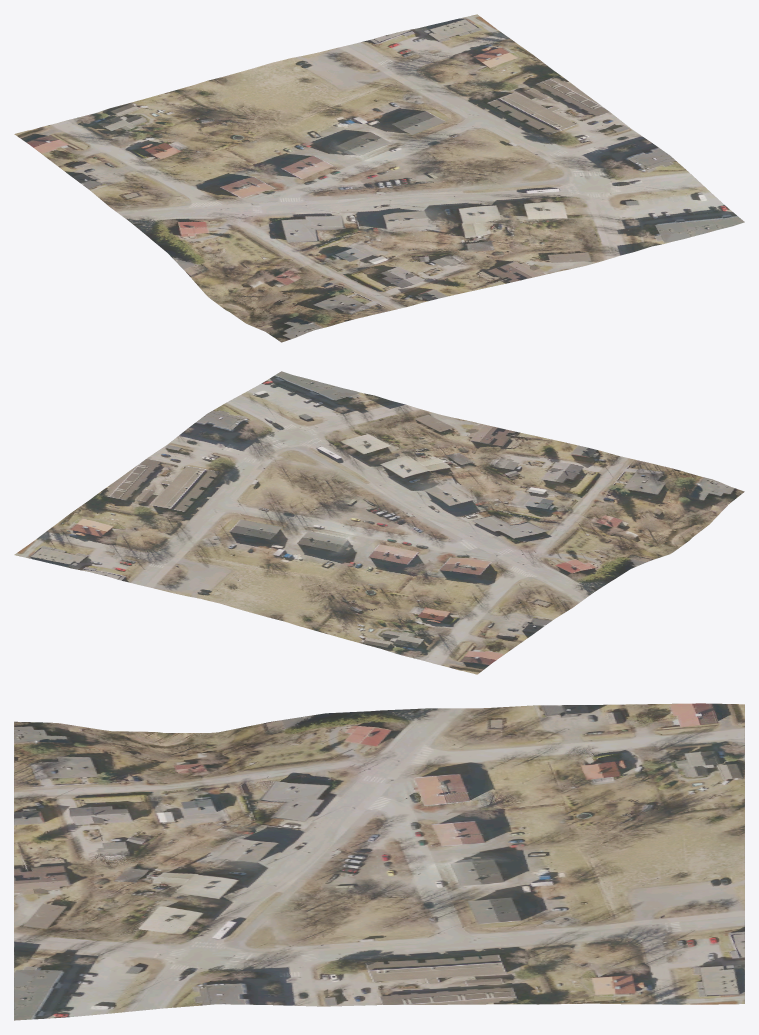
Rendered from CM_Terrain_24491278_6820613.fbx.
3 views of the same model, one above another, from view 1: azimuth 30°, elevation 25°; view 2: azimuth 150°, elevation 25°; view 3: azimuth 270°, elevation 25° (orthographic). The views are drawn at different scales.
Parts seen in each view (by area): view 1: CM_Terrain_24491278_6820613_LOD0; view 2: CM_Terrain_24491278_6820613_LOD0; view 3: CM_Terrain_24491278_6820613_LOD0.
Boxes of the visible parts, x1,y1,x2,y2 form: CM_Terrain_24491278_6820613_LOD0: [14, 14, 744, 342]; CM_Terrain_24491278_6820613_LOD0: [14, 371, 744, 674]; CM_Terrain_24491278_6820613_LOD0: [14, 703, 744, 1020].
Size of what is drawn, in the model's own units: 205 by 13.34 by 205.
